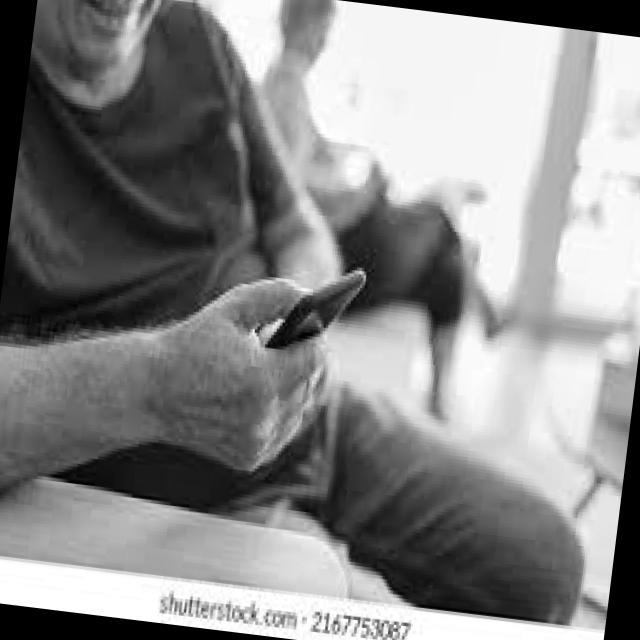phone: (262, 253, 367, 358)
